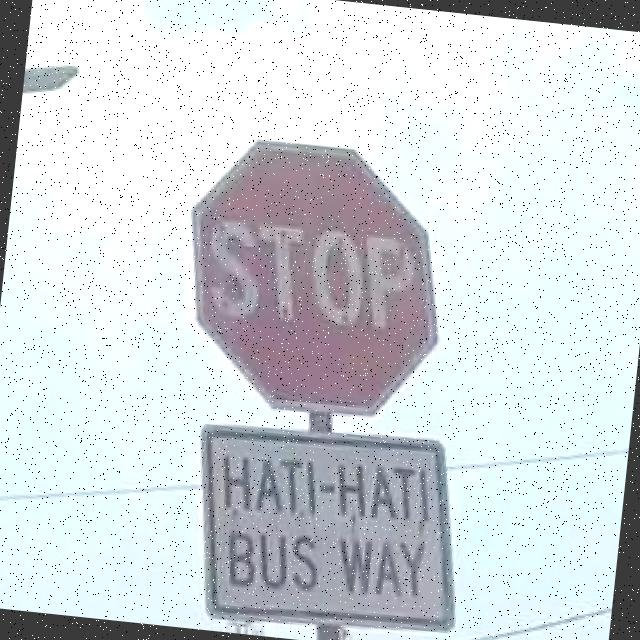Stop: (173, 136, 453, 424)
